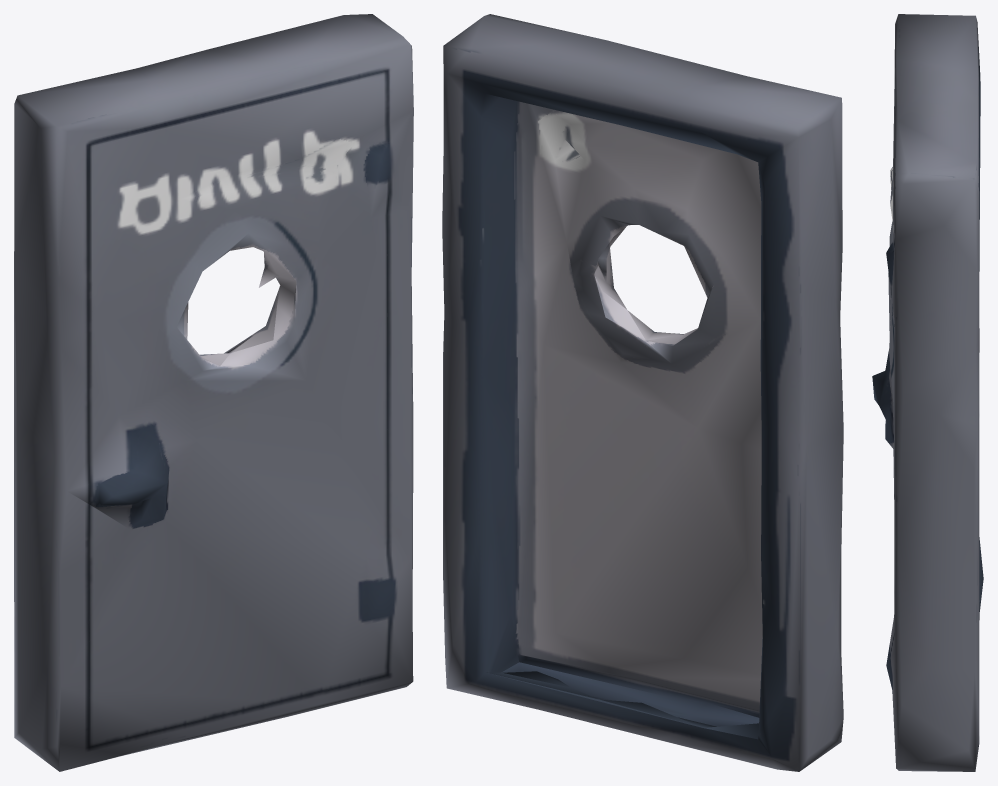
Rendered from lab-door.glb.
3 views of the same model, side by side, from view 1: azimuth 30°, elevation 25°; view 2: azimuth 150°, elevation 25°; view 3: azimuth 270°, elevation 25° (orthographic). The views are drawn at different scales.
Visible parts, largest first — view 1: geometry_0.001; view 2: geometry_0.001; view 3: geometry_0.001.
Boxes of the visible parts, x1=… form: geometry_0.001: x1=14, y1=14, x2=413, y2=771; geometry_0.001: x1=442, y1=14, x2=843, y2=771; geometry_0.001: x1=872, y1=14, x2=983, y2=771.
Bounding box in the file's own units: 0.5832 × 1 × 0.1682.
Materials: 1 (1 with a texture image).
